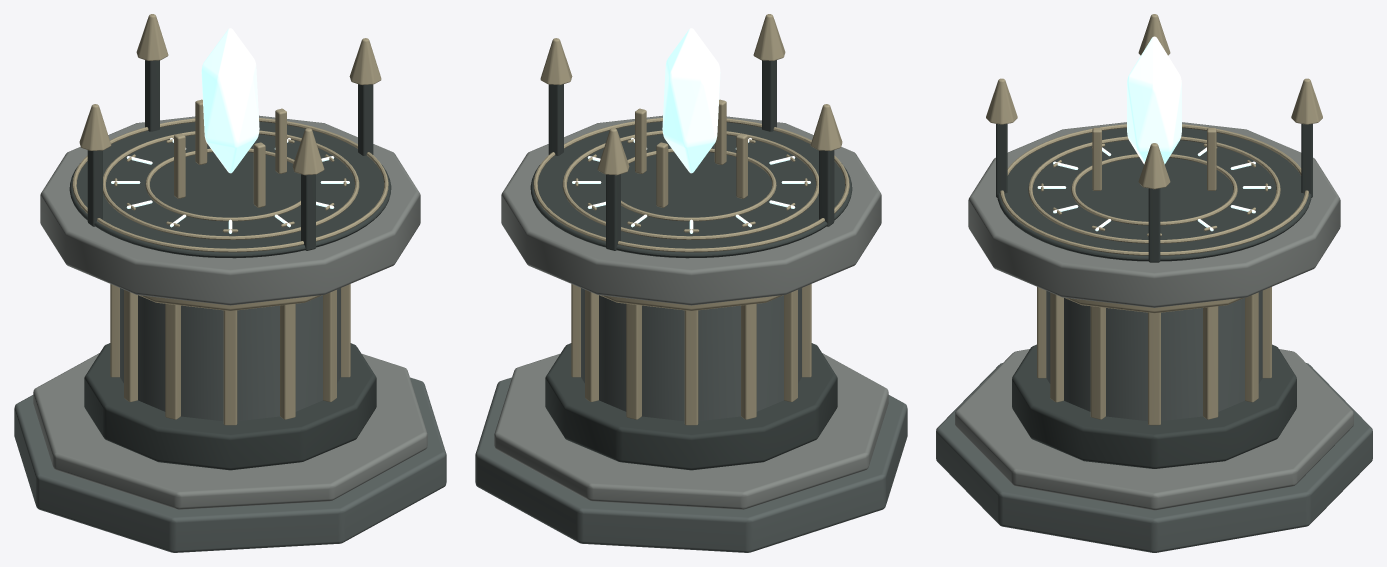
Rendered from run_altar.glb.
3 renders of one model, left to right at view 1: azimuth 30°, elevation 25°; view 2: azimuth 150°, elevation 25°; view 3: azimuth 270°, elevation 25°, orthographic. The views are drawn at different scales.
Parts seen in each view (by area): view 1: Obsidian inset, Plinth worn lip, Offering table, Octagonal plinth lower, Carved column, Pedestal foot, Suspended covenant shard, Engraved concentric band.002, Engraved concentric band.001, Fluted column rib.007, Fluted column rib.009, Fluted column rib.008 (+18 smaller); view 2: Obsidian inset, Plinth worn lip, Offering table, Octagonal plinth lower, Carved column, Pedestal foot, Suspended covenant shard, Engraved concentric band.002, Engraved concentric band.001, Fluted column rib.003, Fluted column rib.005, Fluted column rib.004 (+18 smaller); view 3: Obsidian inset, Plinth worn lip, Offering table, Octagonal plinth lower, Carved column, Pedestal foot, Suspended covenant shard, Engraved concentric band.002, Engraved concentric band.001, Fluted column rib.001, Fluted column rib.011, Fluted column rib.002 (+15 smaller).
Part boxes in pixels (x1,y1,x2,y2): Obsidian inset: (69, 121, 391, 258); Plinth worn lip: (33, 353, 427, 509); Offering table: (40, 115, 420, 305); Octagonal plinth lower: (14, 377, 446, 552); Carved column: (120, 288, 340, 421); Pedestal foot: (84, 343, 376, 470); Suspended covenant shard: (201, 28, 259, 173); Engraved concentric band.002: (72, 118, 388, 252); Engraved concentric band.001: (103, 130, 359, 239); Fluted column rib.007: (165, 304, 180, 419); Fluted column rib.009: (280, 304, 295, 419); Fluted column rib.008: (223, 310, 237, 425); Obsidian inset: (530, 121, 852, 258); Plinth worn lip: (494, 353, 888, 509); Offering table: (501, 115, 881, 305); Octagonal plinth lower: (475, 377, 907, 552); Carved column: (581, 288, 801, 421); Pedestal foot: (545, 343, 837, 470); Suspended covenant shard: (662, 28, 720, 173); Engraved concentric band.002: (533, 118, 849, 252); Engraved concentric band.001: (562, 130, 818, 239); Fluted column rib.003: (626, 304, 641, 419); Fluted column rib.005: (741, 304, 756, 419); Fluted column rib.004: (684, 310, 698, 425); Obsidian inset: (997, 128, 1311, 261); Plinth worn lip: (955, 349, 1353, 510); Offering table: (968, 122, 1340, 307); Octagonal plinth lower: (936, 363, 1372, 552); Carved column: (1046, 291, 1262, 421); Pedestal foot: (1012, 344, 1296, 468); Suspended covenant shard: (1127, 36, 1181, 164); Engraved concentric band.002: (1000, 124, 1308, 255); Engraved concentric band.001: (1028, 136, 1280, 243); Fluted column rib.001: (1203, 306, 1218, 419); Fluted column rib.011: (1090, 306, 1105, 419); Fluted column rib.002: (1245, 292, 1258, 402).
Size of the model in its own units: 1.83 by 1.97 by 1.83.
